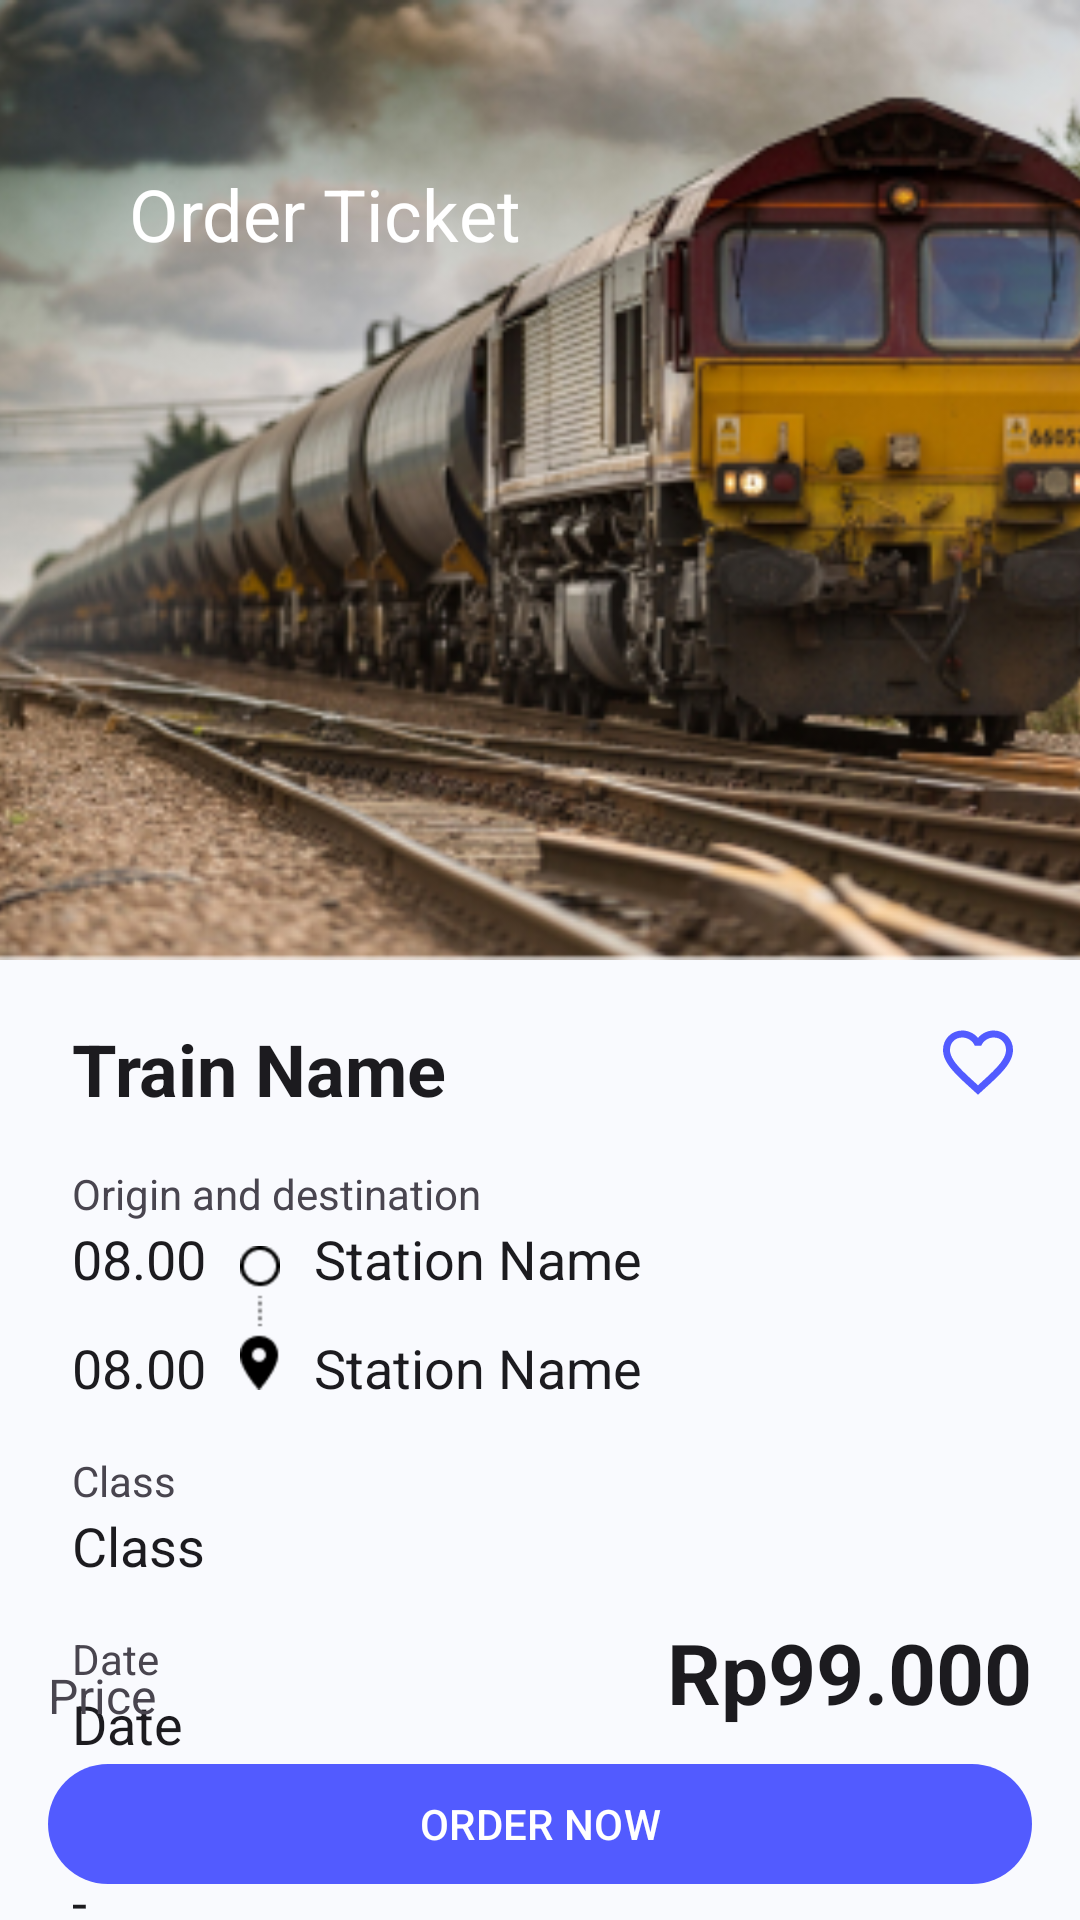

Where icons sit on this 1080*1920 app screen, as (x1, y1, x2, y2):
favorite border: (943, 1030, 1013, 1095)
